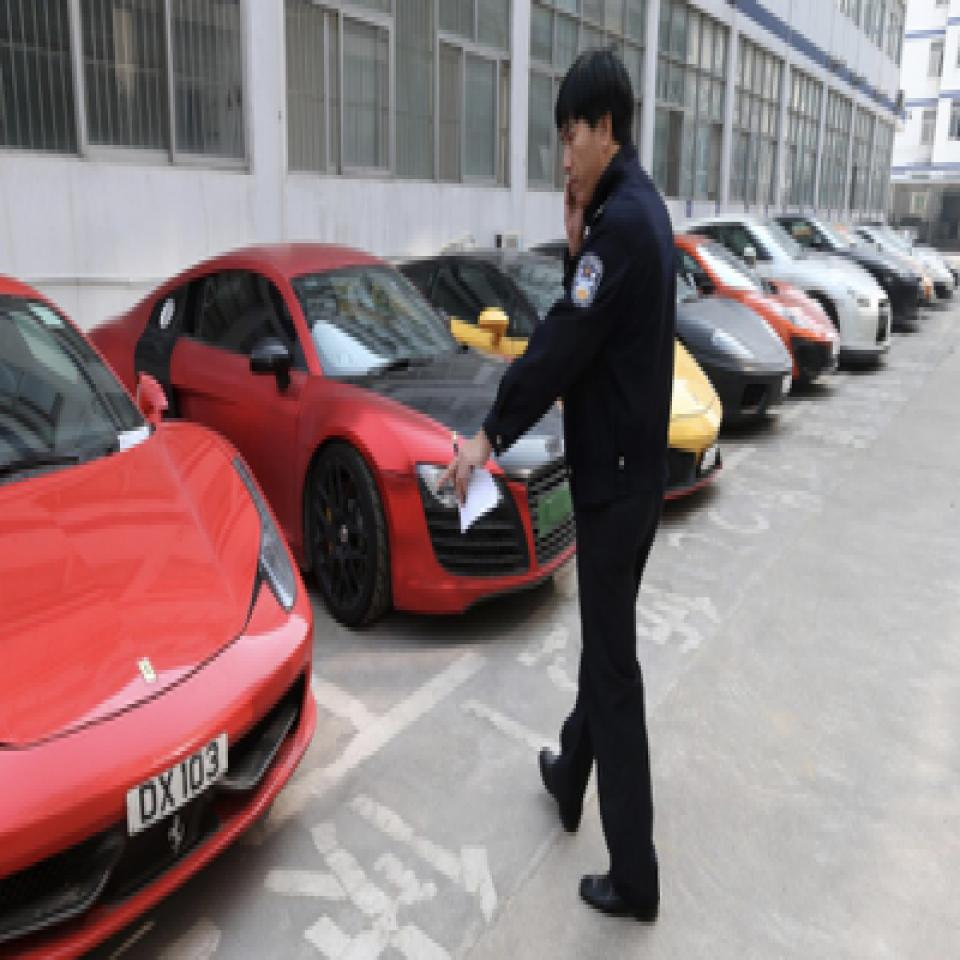licence: (122, 708, 224, 849)
